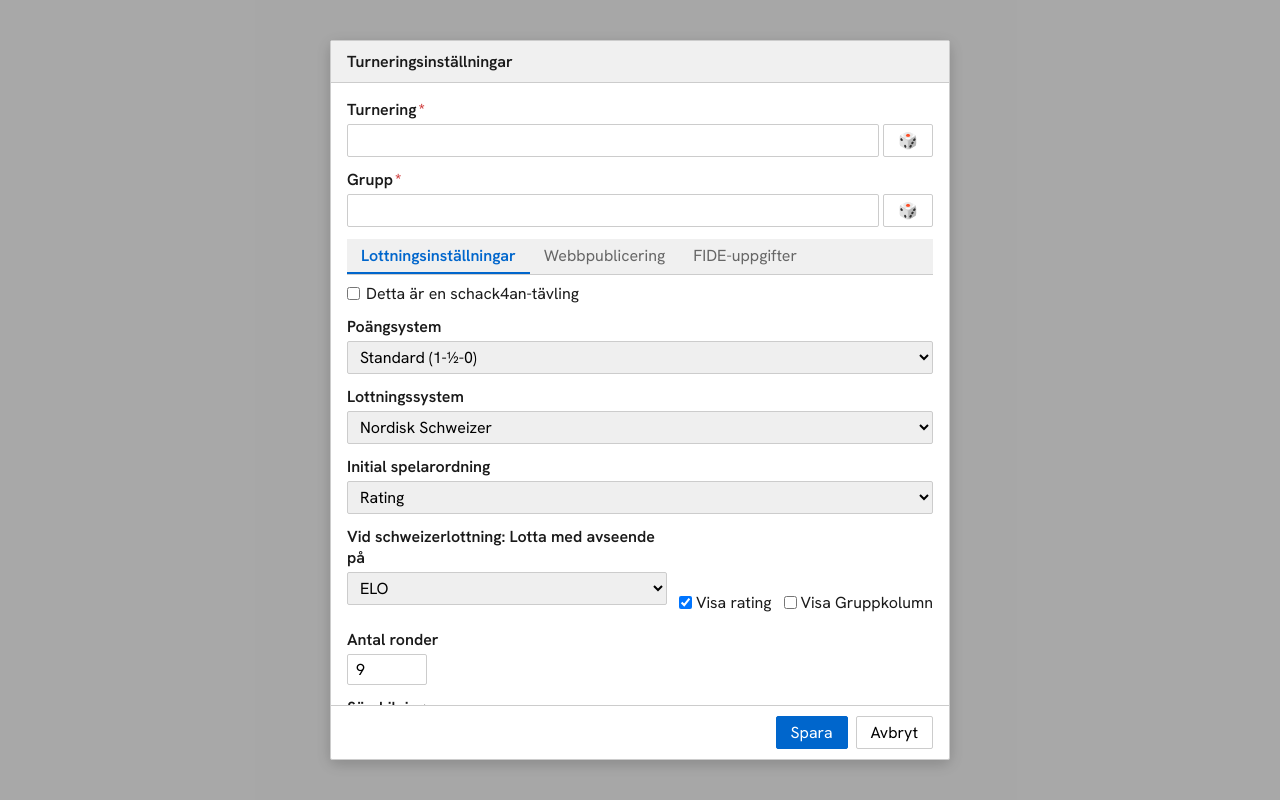
TournamentDialog point system preset › checking the Schack4an checkbox flips the dropdown to schack4an
Expected: the dropdown with test id "tournament-point-system-select" shows "Standard (1-½-0)", [347,341,933,374]
Click the checkbox with test id "tournament-chess4-checkbox" at (354, 294), box [347,287,360,300]
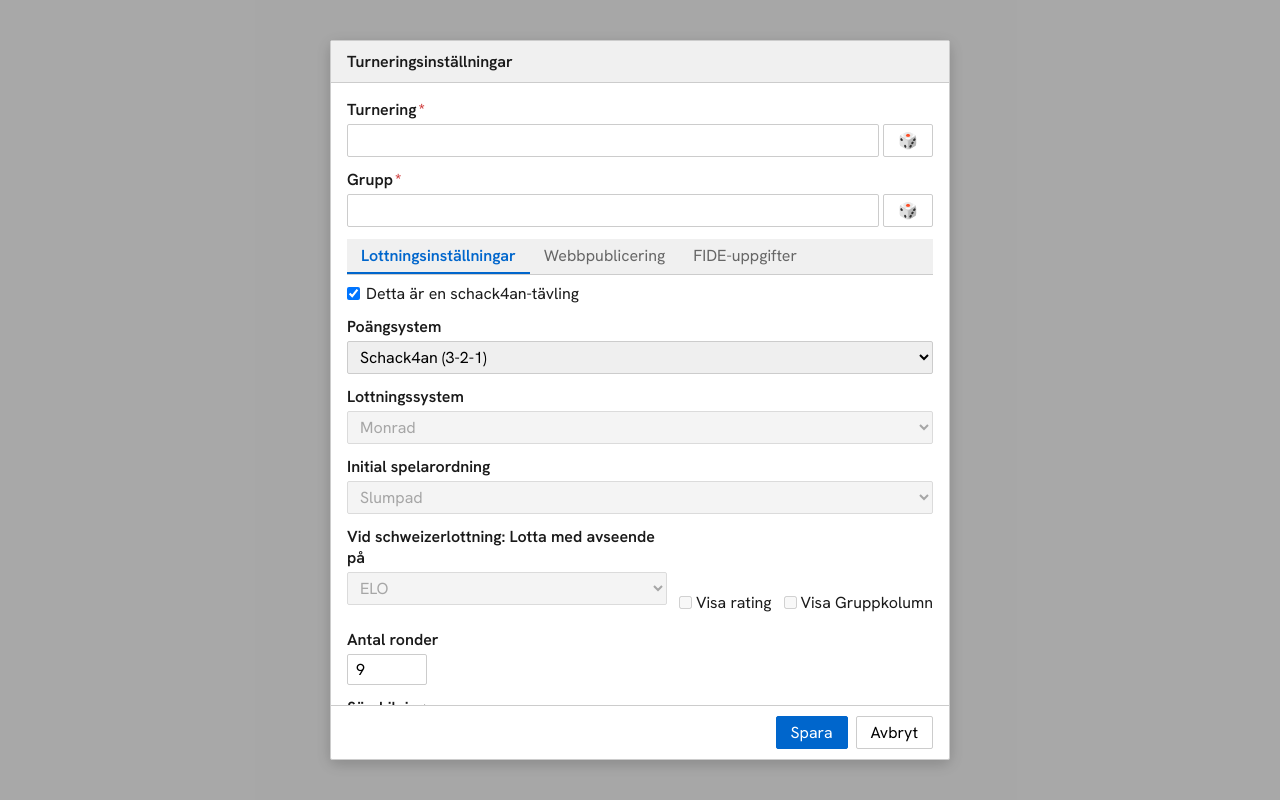
Result: the dropdown with test id "tournament-point-system-select" shows "Schack4an (3-2-1)" at [347,341,933,374]
